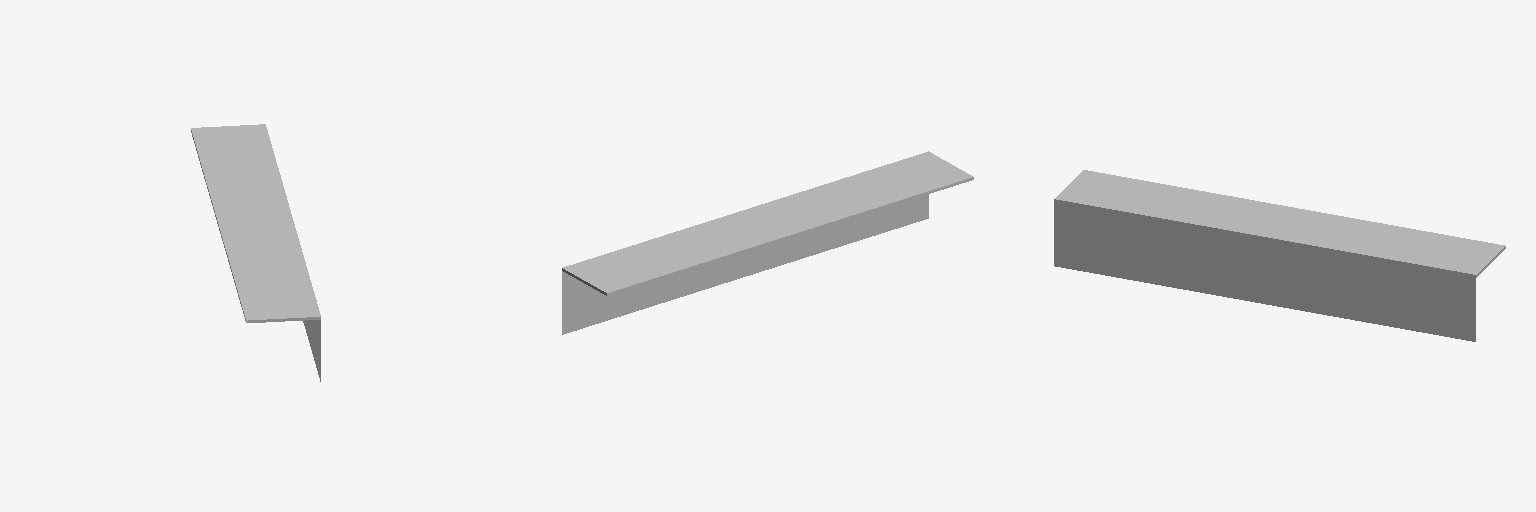
Rendered from Wing_Table_Ground.mtl.obj.
3 renders of one model, left to right at view 1: azimuth 30°, elevation 25°; view 2: azimuth 150°, elevation 25°; view 3: azimuth 270°, elevation 25°, orthographic.
Visible parts, largest first — view 1: Wing_Table_Ground_Plane.000; view 2: Wing_Table_Ground_Plane.000; view 3: Wing_Table_Ground_Plane.000.
Boxes of the visible parts, <box> form: Wing_Table_Ground_Plane.000: <box>191,124,320,381</box>; Wing_Table_Ground_Plane.000: <box>562,151,973,334</box>; Wing_Table_Ground_Plane.000: <box>1054,170,1505,341</box>.
Bounding box in the file's own units: 3.86 × 1.15 × 7.